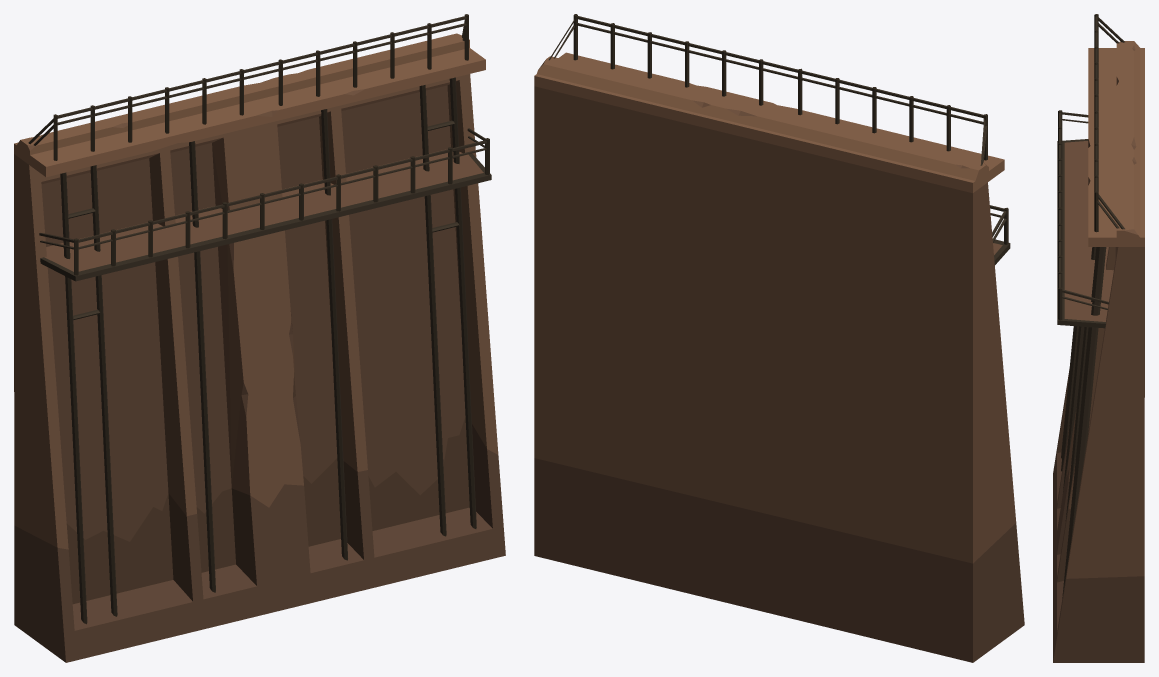
The model's file is SM_Env_Port_Drydock_Large_01.fbx.
3 views of the same model, side by side, from view 1: azimuth 30°, elevation 25°; view 2: azimuth 150°, elevation 25°; view 3: azimuth 270°, elevation 25° (orthographic). The views are drawn at different scales.
Visible parts, largest first — view 1: SM_Env_Port_Drydock_Large_01; view 2: SM_Env_Port_Drydock_Large_01; view 3: SM_Env_Port_Drydock_Large_01.
Part boxes in pixels (box(x1,y1,x2,y2)): SM_Env_Port_Drydock_Large_01: box(14, 14, 505, 662); SM_Env_Port_Drydock_Large_01: box(534, 14, 1024, 662); SM_Env_Port_Drydock_Large_01: box(1053, 14, 1144, 662).
Size of the model in its own units: 1000 by 1143 by 205.
